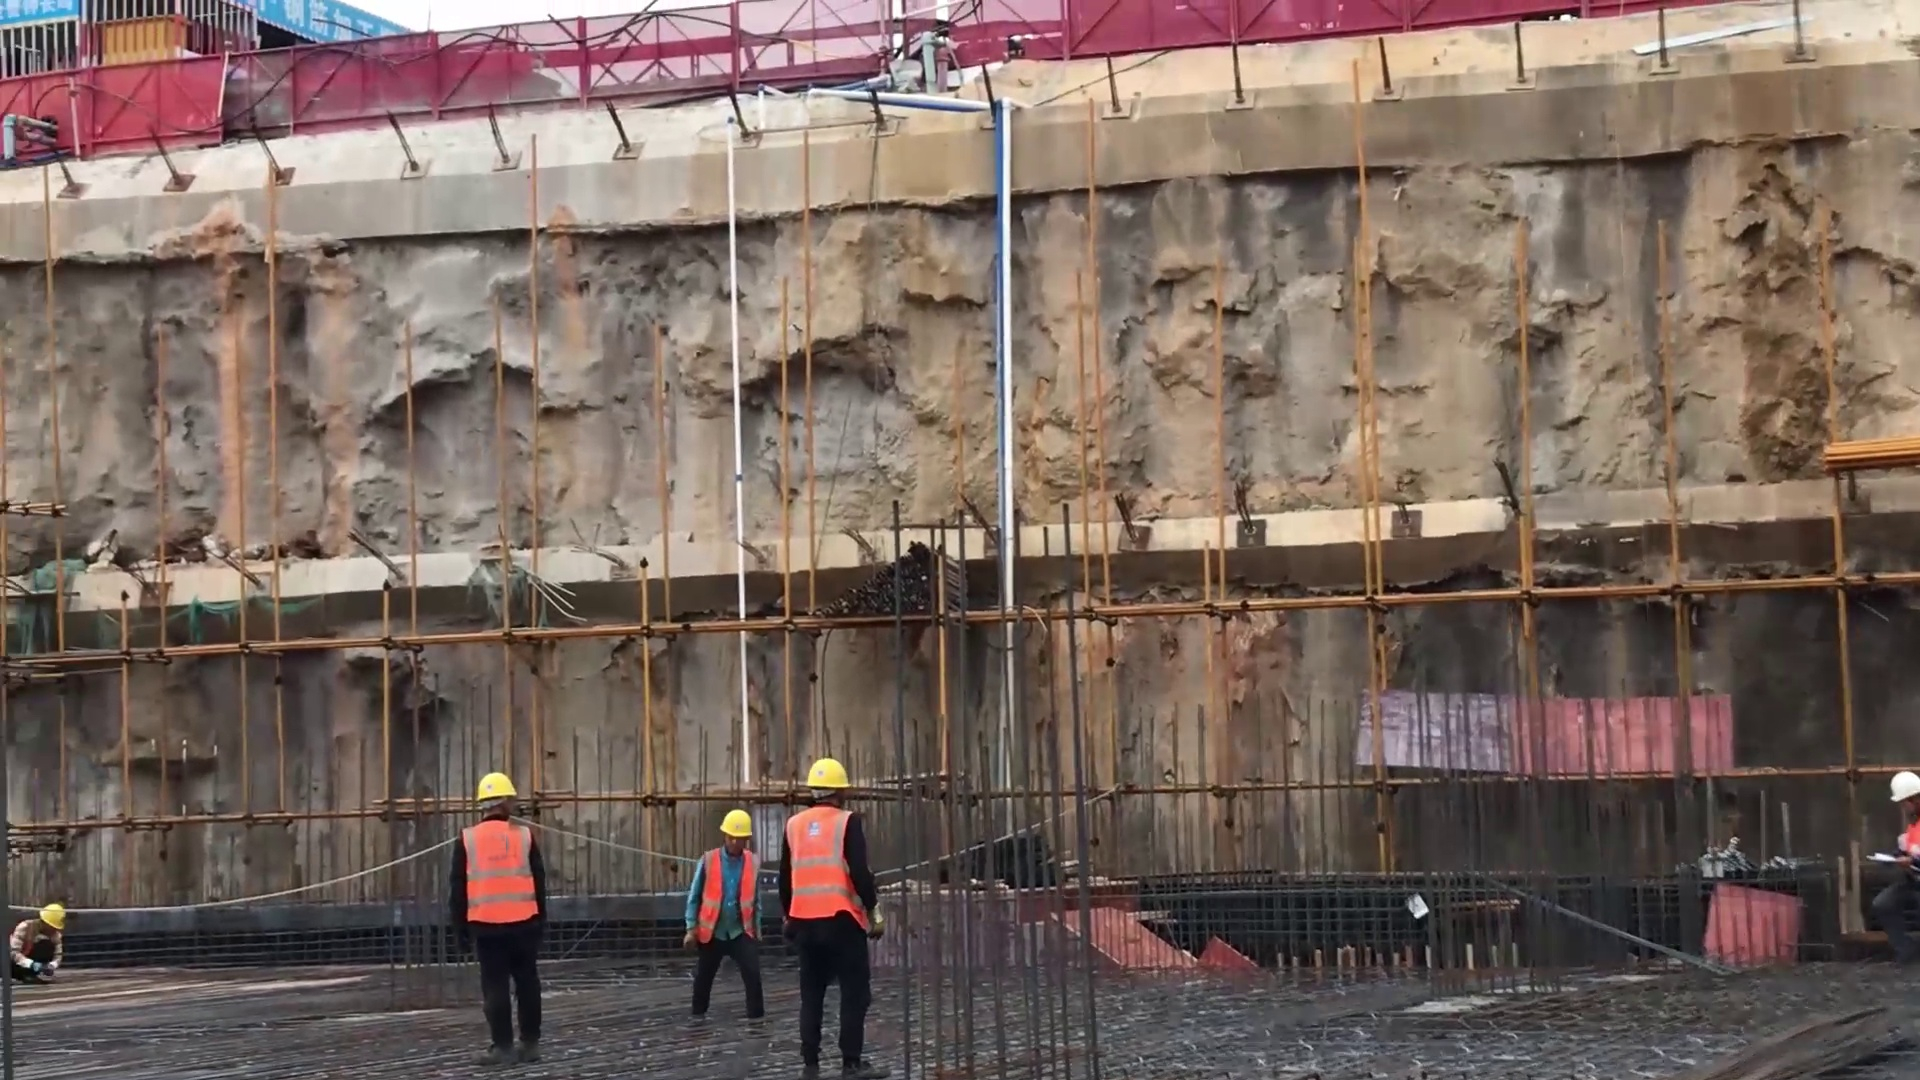helmet: (467, 770, 525, 805), (807, 760, 850, 796), (1882, 769, 1916, 807), (714, 810, 753, 838), (40, 902, 73, 928)
person: (780, 754, 880, 1076), (446, 767, 553, 1063), (683, 805, 770, 1026), (10, 897, 66, 990), (1883, 766, 1920, 870)
vest: (787, 804, 873, 938), (451, 817, 539, 935), (692, 845, 761, 957)
